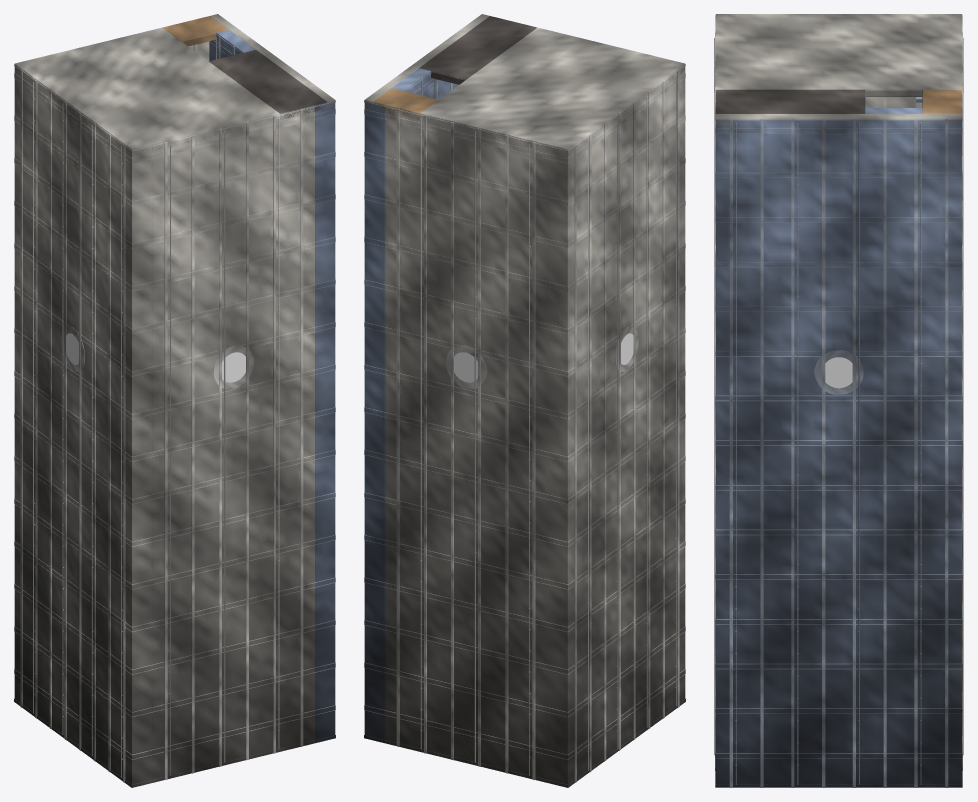
File: SM_Tower_F.fbx
The picture shows the model from 3 angles, left to right: view 1: azimuth 30°, elevation 25°; view 2: azimuth 150°, elevation 25°; view 3: azimuth 270°, elevation 25°; orthographic projection. The views are drawn at different scales.
Visible parts, largest first — view 1: SM_Tower_F; view 2: SM_Tower_F; view 3: SM_Tower_F.
Boxes of the visible parts, x1=… form: SM_Tower_F: x1=14, y1=14, x2=335, y2=787; SM_Tower_F: x1=364, y1=14, x2=685, y2=787; SM_Tower_F: x1=714, y1=14, x2=963, y2=787.
Bounding box in the file's own units: 3036 × 9000 × 3035.
